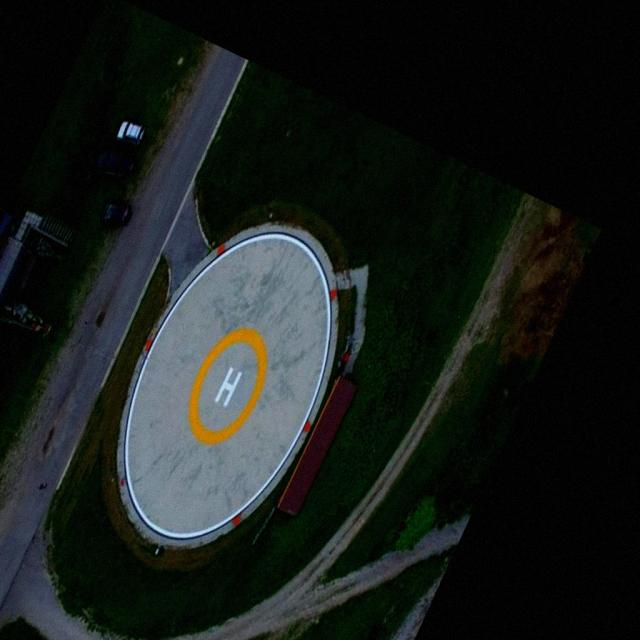helipad: (185, 324, 268, 448)
